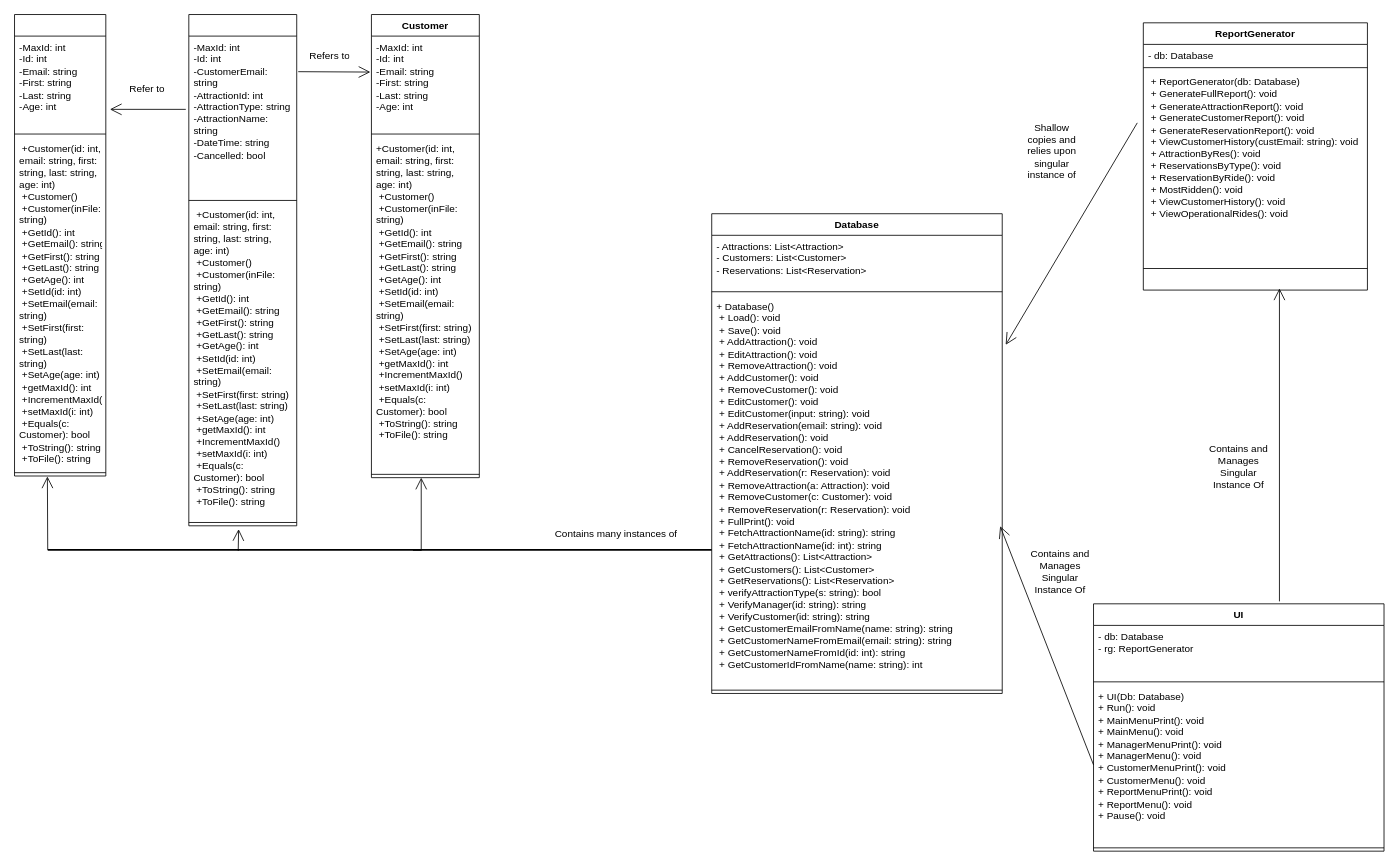
Some shapes in this 1399 by 866 pixel diagram are drawn without their labels. The box of each missing label's shape, as (x1, y1, x2, y2) in pixels:
Attraction: (14, 14, 106, 476)
Reservation: (188, 14, 297, 526)
